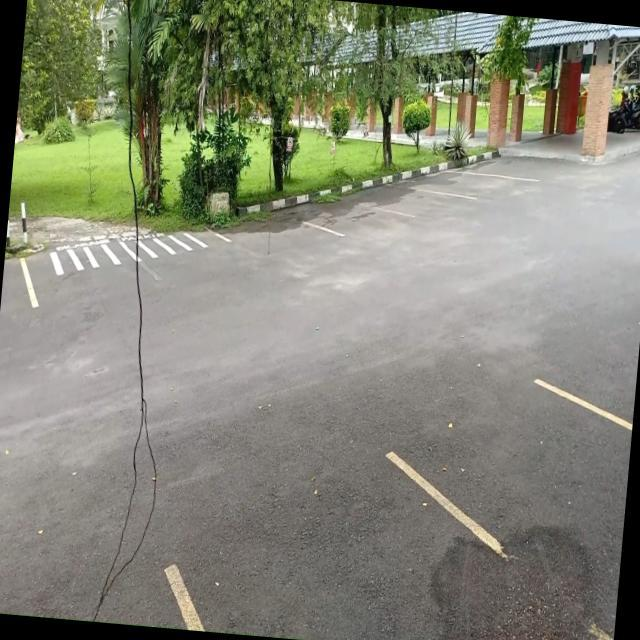empty: (174, 456, 497, 640), (488, 383, 635, 609), (307, 189, 378, 240), (421, 166, 512, 202), (364, 182, 450, 220)
